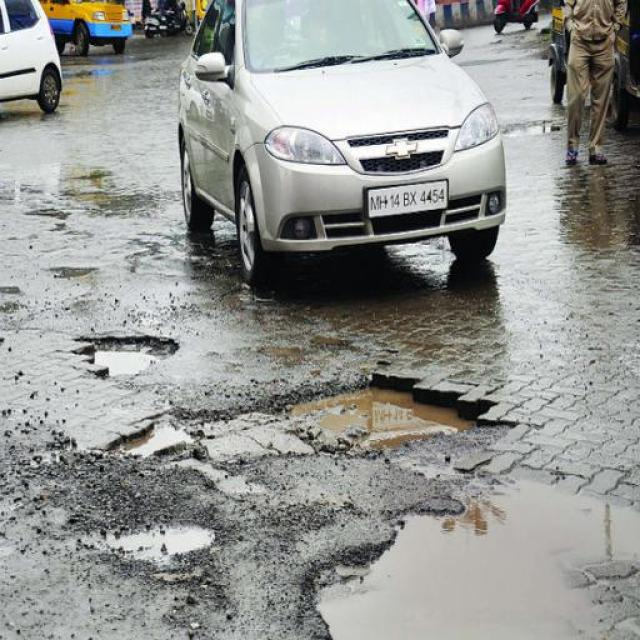puddle: (390, 514, 580, 640), (345, 378, 461, 442)
